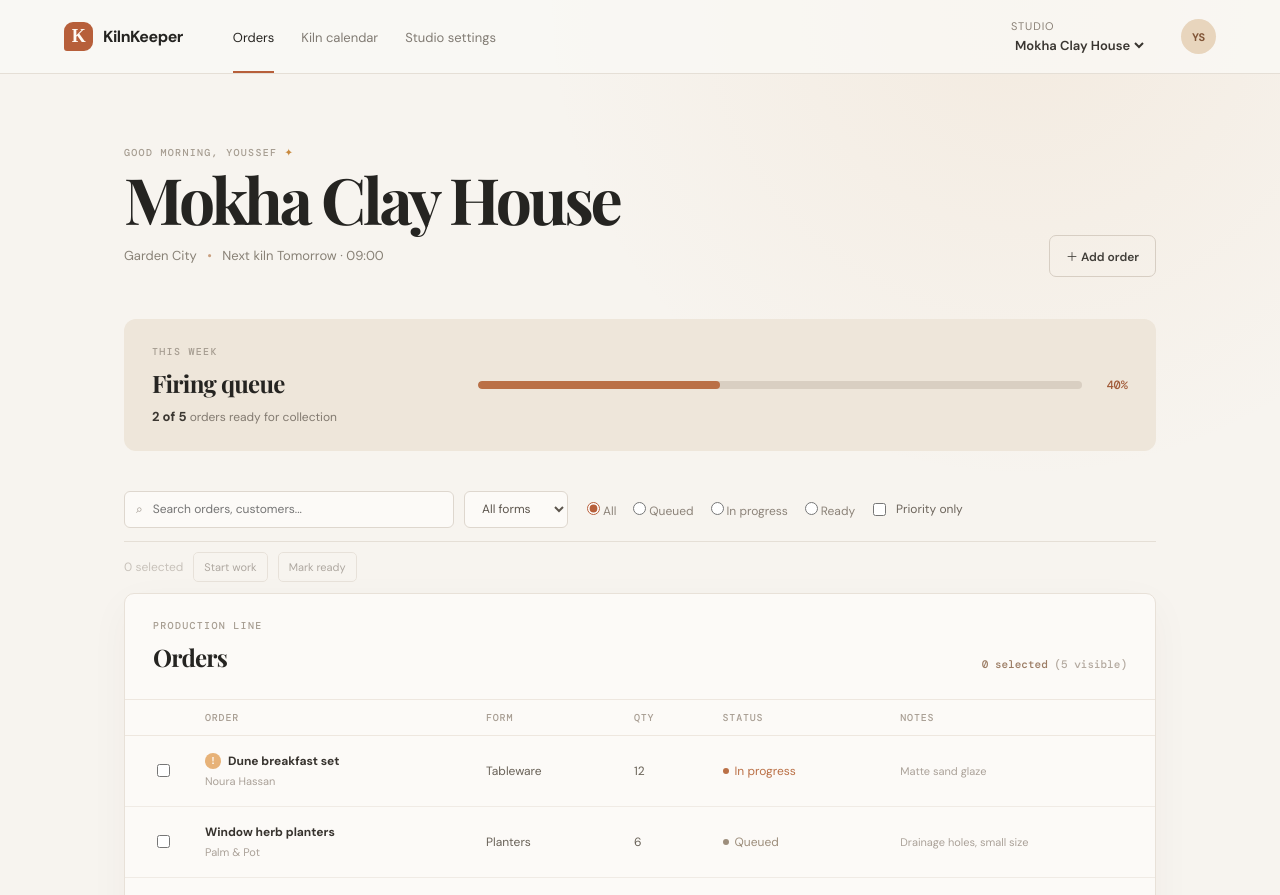
KilnKeeper › hides non-priority orders
Click the checkbox labelled "Priority only" at (880, 509), box [873,503,886,516]
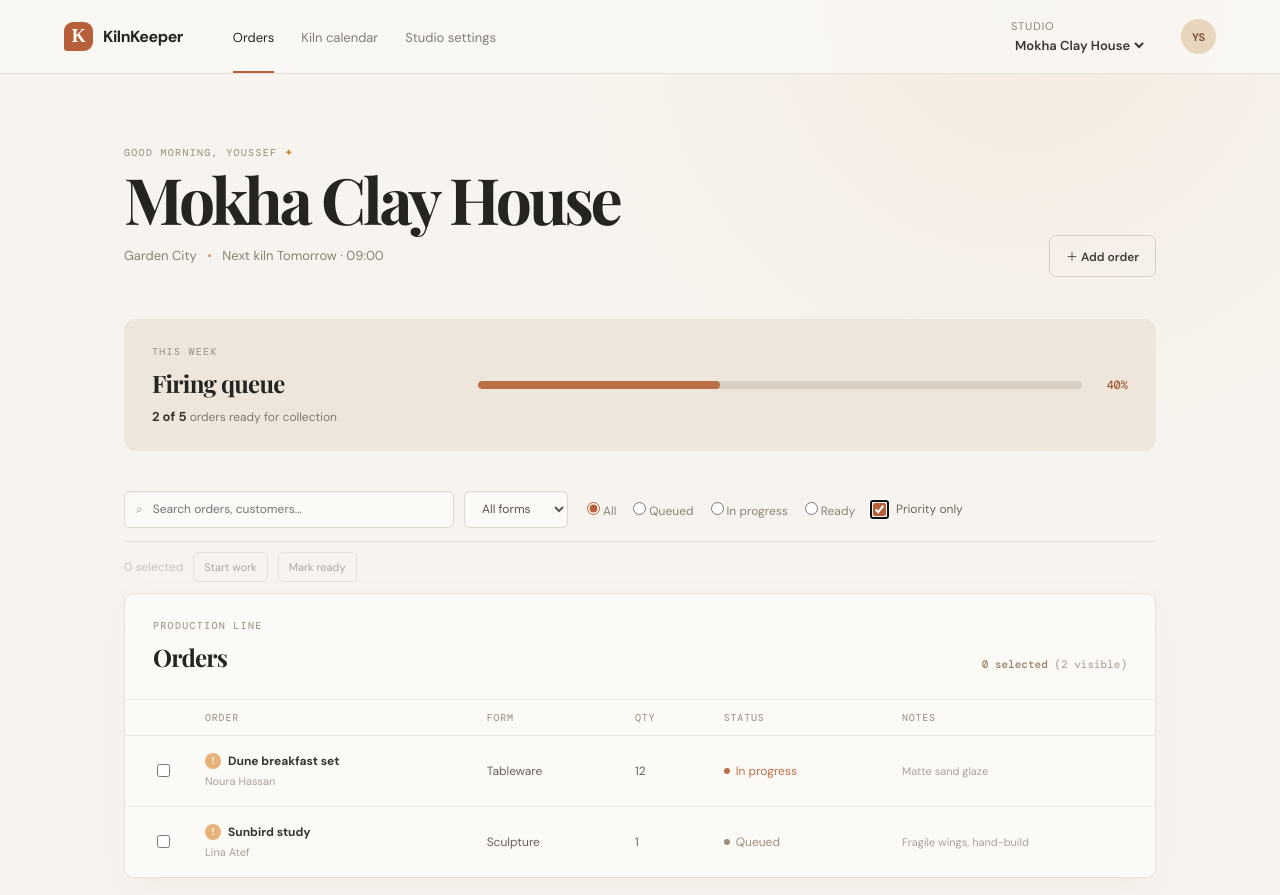
Check: the text "Dune breakfast set" is shown, box [228,753,339,769]
Check: the text "Window herb planters" is gone
